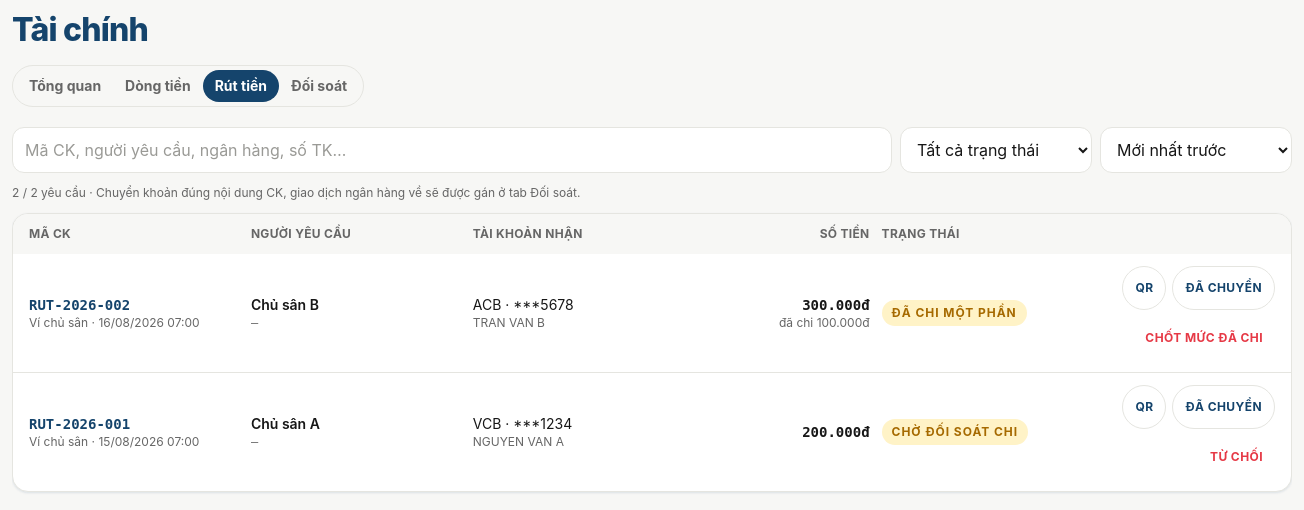
Test: filters and sorts the finance operation queues
Expected: the text "RUT-2026-001" is shown, [29,416,130,432]
Expected: the text "Chủ sân A" is shown, [251,415,320,432]
Step 1. Select "Đã chi một phần" in the dropdown named "Lọc trạng thái yêu cầu rút" → [996, 150], box [900,127,1092,173]
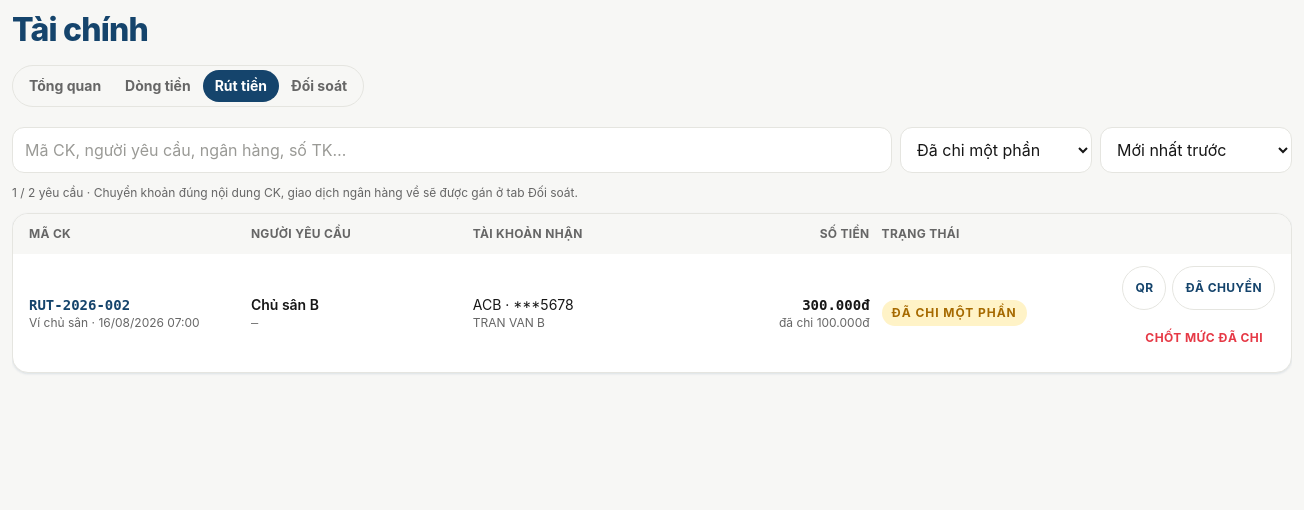
Expected: the text "RUT-2026-002" is shown, [29,297,130,313]
Expected: the text "RUT-2026-001" is gone
Step 2. Select "Tất cả trạng thái" in the dropdown named "Lọc trạng thái yêu cầu rút" → [996, 150], box [900,127,1092,173]
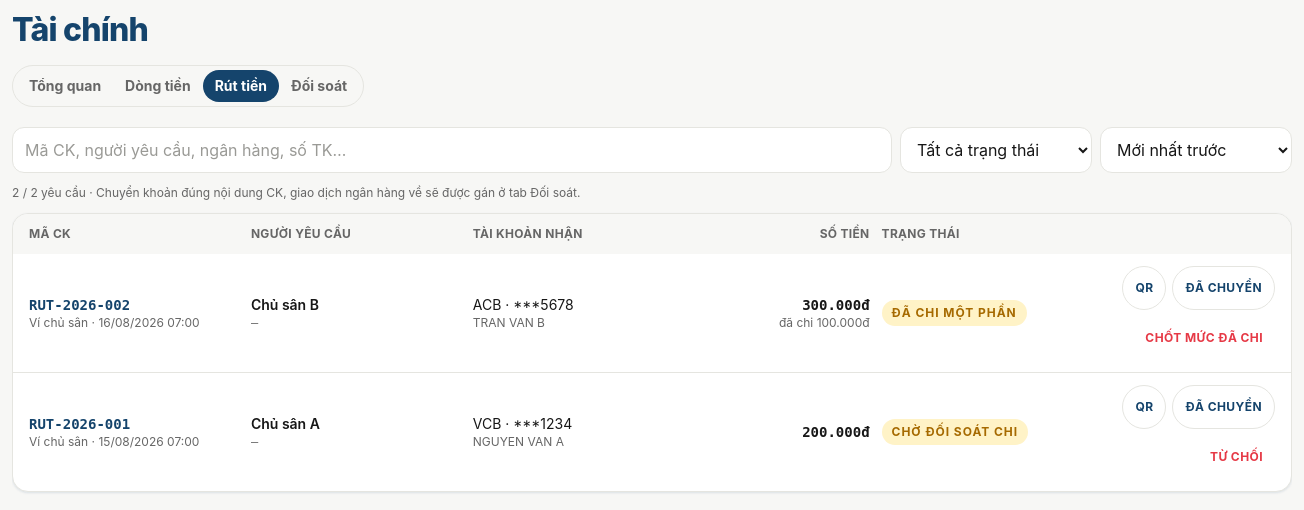
Step 3. Type "***1234" into the field named "Tìm yêu cầu rút" → [452, 150], box [12,127,892,173]
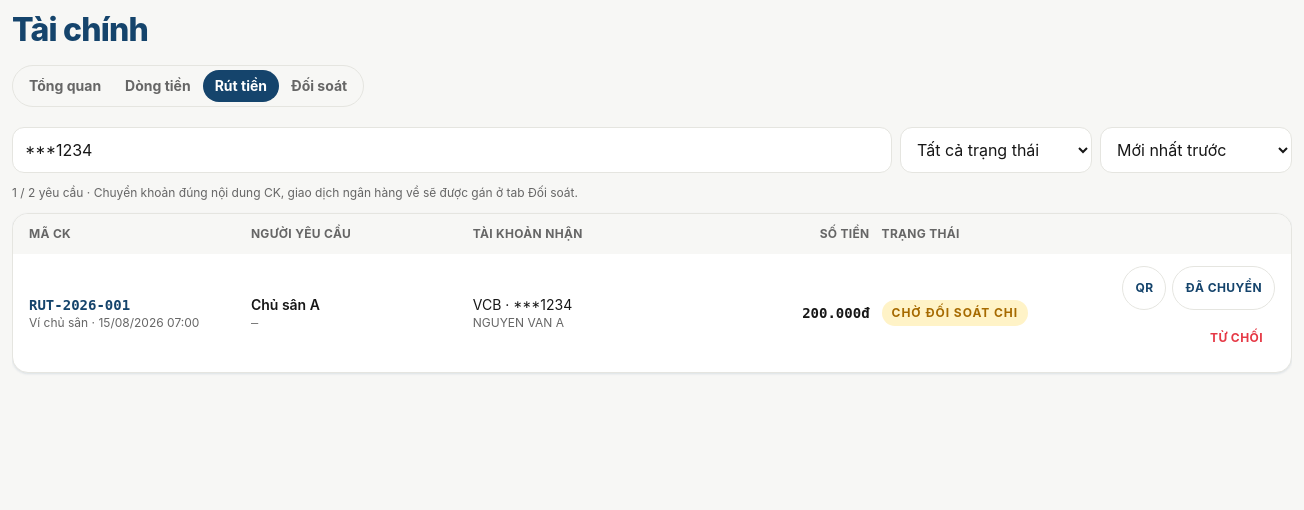
Expected: the text "RUT-2026-001" is shown, [29,297,130,313]
Expected: the text "RUT-2026-002" is gone
Step 4. Click the button "Đối soát" → [319, 86], box [279,70,359,102]
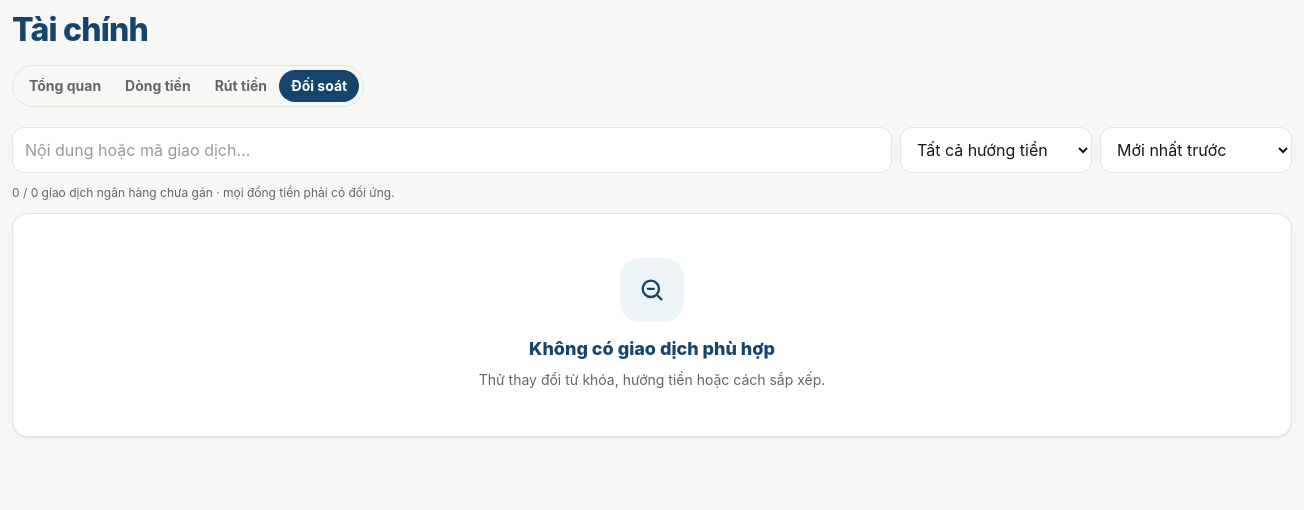
Step 5. Select "Tiền ra" in the dropdown named "Lọc hướng tiền" → [996, 150], box [900,127,1092,173]
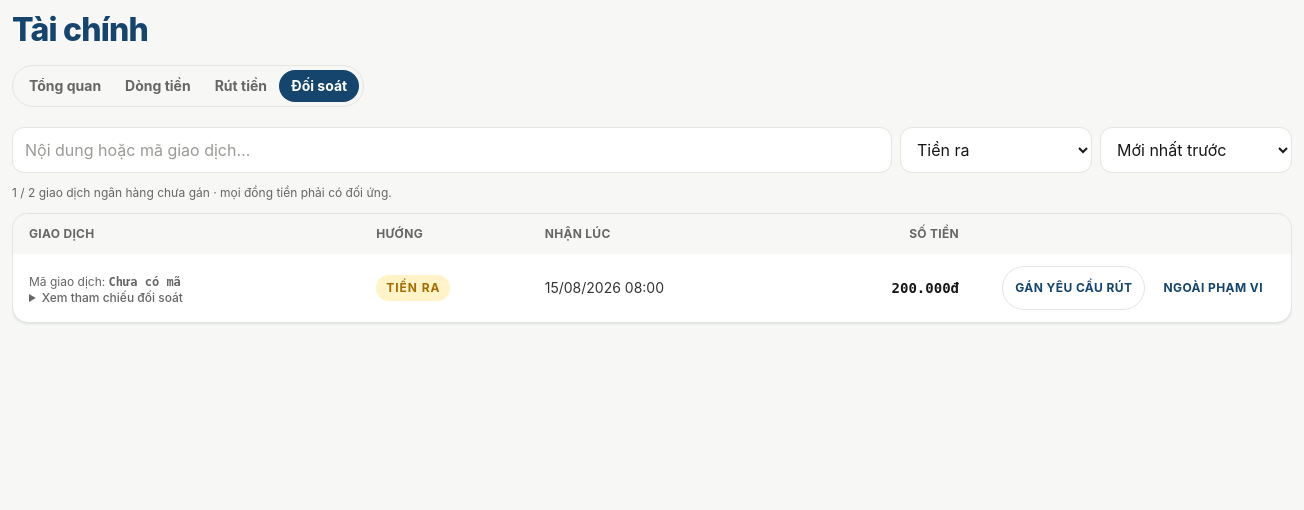
Expected: the text "200.000đ" is shown, [892,280,959,296]
